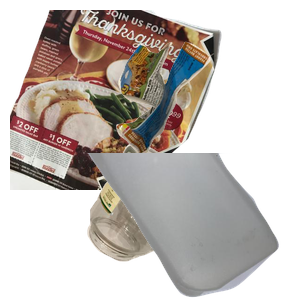glass: (85, 141, 275, 300)
paper: (10, 10, 224, 190)
plastic: (84, 153, 300, 300)
trash: (114, 39, 300, 188)
